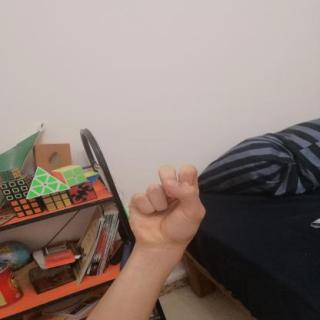QAAF: (124, 160, 210, 248)
